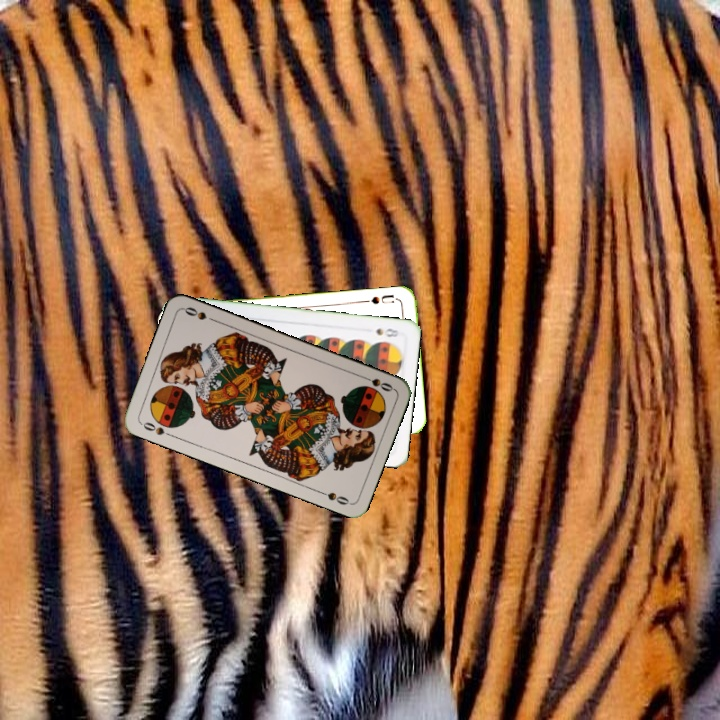S8: (372, 324, 402, 340)
SO: (357, 371, 395, 394), (137, 418, 176, 440)
SU: (360, 291, 400, 307)
